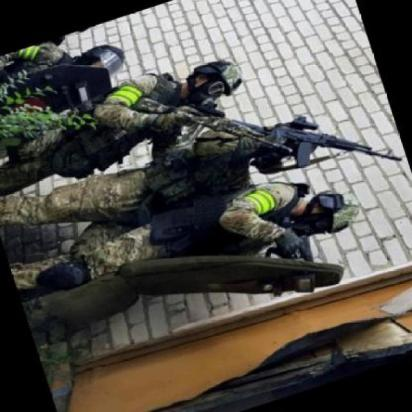Gun: (117, 57, 294, 202), (250, 92, 404, 210), (273, 227, 322, 276)
